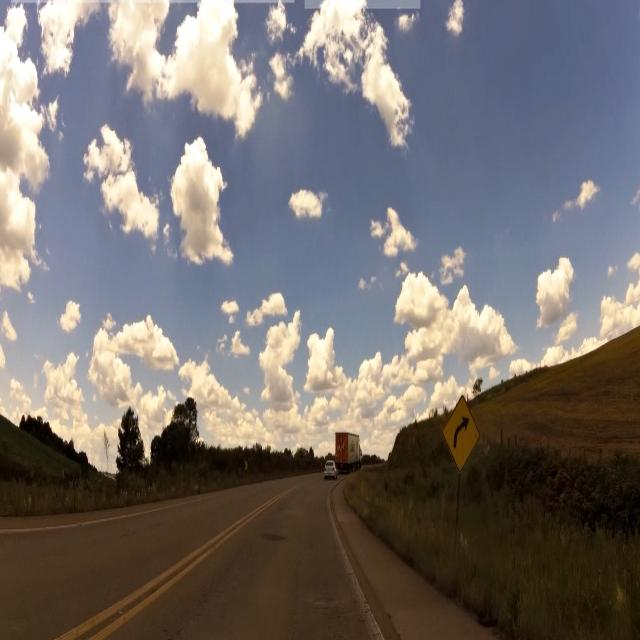A-2b: (445, 392, 482, 475)
